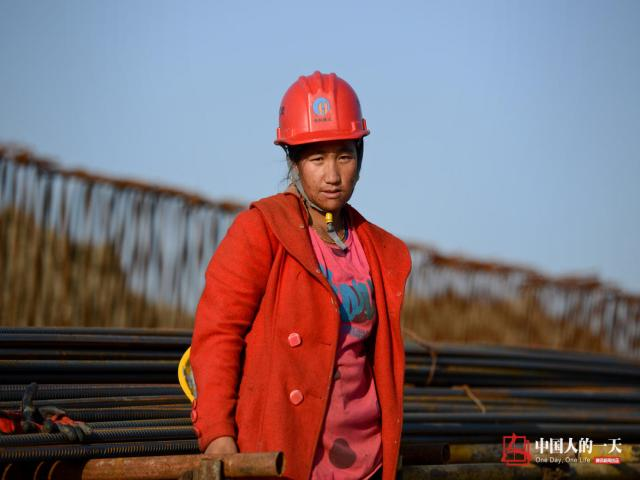Helmet: (271, 64, 373, 155)
